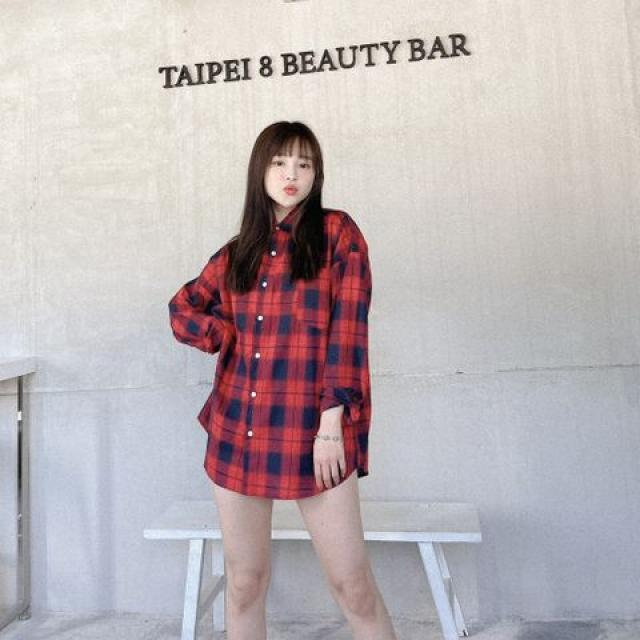plaid: (162, 206, 372, 496)
